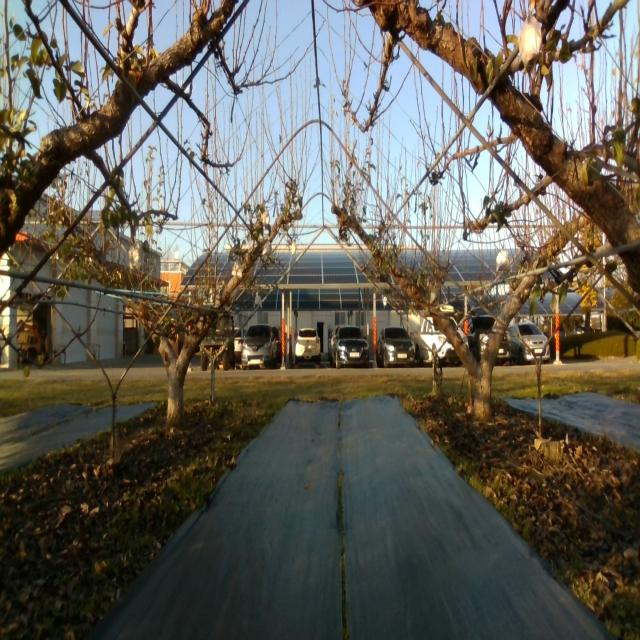pearbags: (519, 13, 542, 76), (129, 242, 145, 270), (496, 250, 510, 270), (231, 259, 242, 277)
